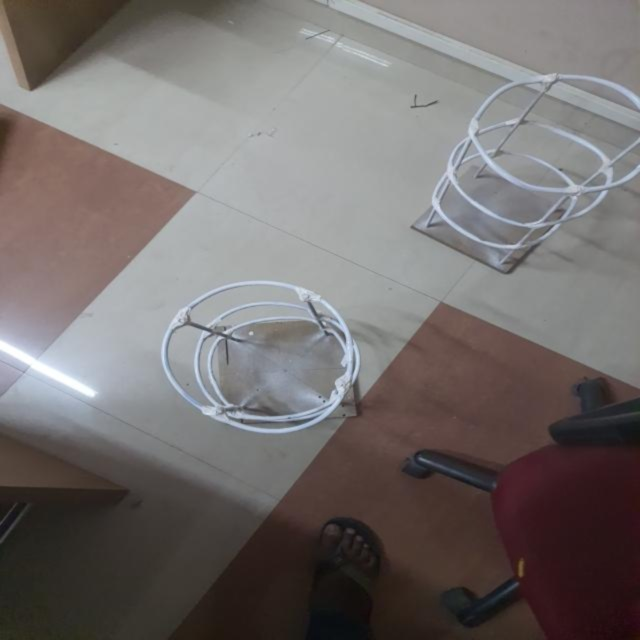silo: (399, 70, 640, 270), (157, 277, 369, 429)
